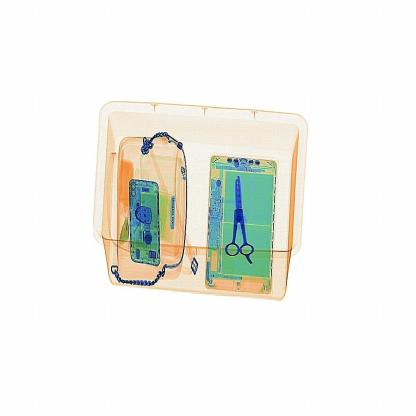gun: (225, 153, 258, 270)
